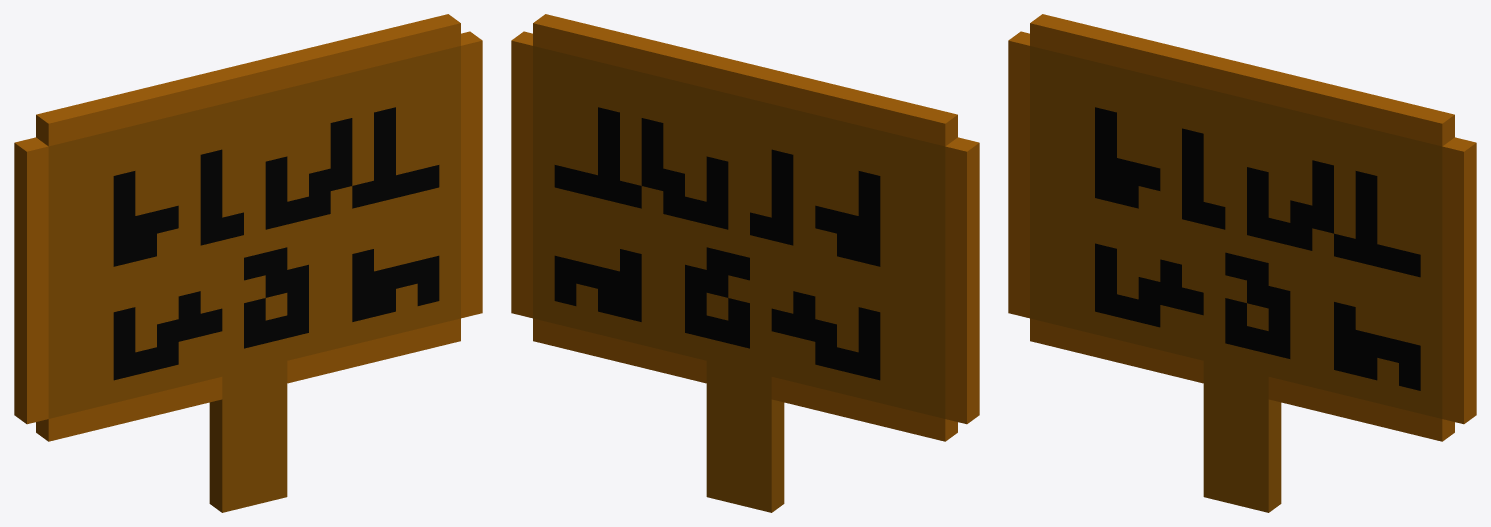
Rendered from Sign.gltf.
3 renders of one model, left to right at view 1: azimuth 30°, elevation 25°; view 2: azimuth 150°, elevation 25°; view 3: azimuth 330°, elevation 25°, orthographic.
Visible parts, largest first — view 1: Layer.1; view 2: Layer.1; view 3: Layer.1.
Part boxes in pixels (<box>): Layer.1: <box>14,14,482,512</box>; Layer.1: <box>511,14,979,512</box>; Layer.1: <box>1008,14,1476,512</box>.
Bounding box in the file's own units: 21 × 19 × 1.
1 material, 1 textured.
